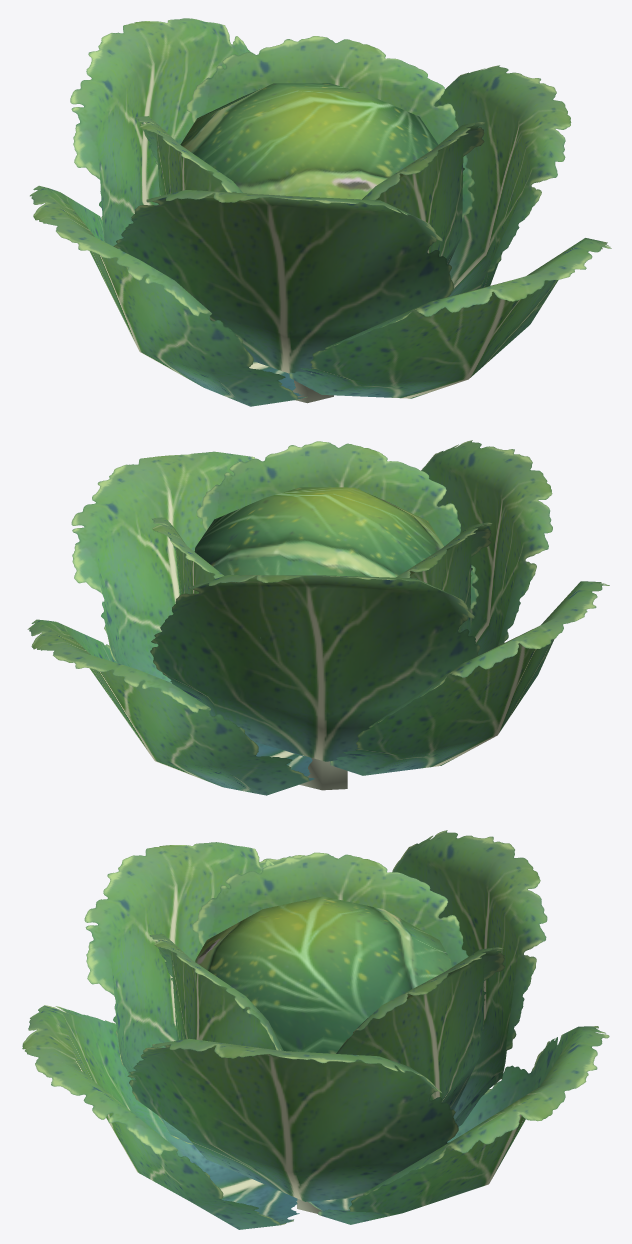
File: plant_cabbage_S3.fbx
3 renders of one model, top to bottom at view 1: azimuth 30°, elevation 25°; view 2: azimuth 150°, elevation 25°; view 3: azimuth 270°, elevation 25°, orthographic. The views are drawn at different scales.
Visible parts, largest first — view 1: plant_cabbage_S3; view 2: plant_cabbage_S3; view 3: plant_cabbage_S3.
Boxes of the visible parts, x1,y1,x2,y2 form: plant_cabbage_S3: (30, 18, 611, 406); plant_cabbage_S3: (27, 440, 609, 795); plant_cabbage_S3: (22, 830, 609, 1229).
Size of the model in its own units: 57.04 by 33.88 by 60.
